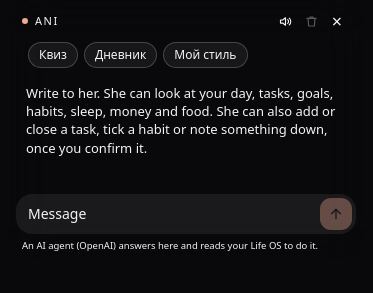
Scenario: AniChat › says why a message was not taken
Expected: the text "Write to her" is shown, 26,84 -> 335,157
Type "Hi" into the text box named "Message to Ani".
click(167, 214); type("Hi")  # box 20,198 -> 314,230
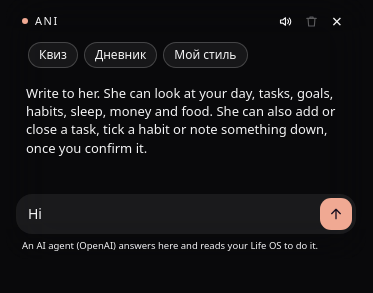
Click the button named "Send".
click(336, 214)  # box 320,198 -> 352,230
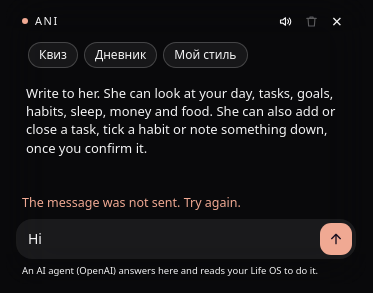
Result: the message shows "not sent" at 22,194 -> 241,211
